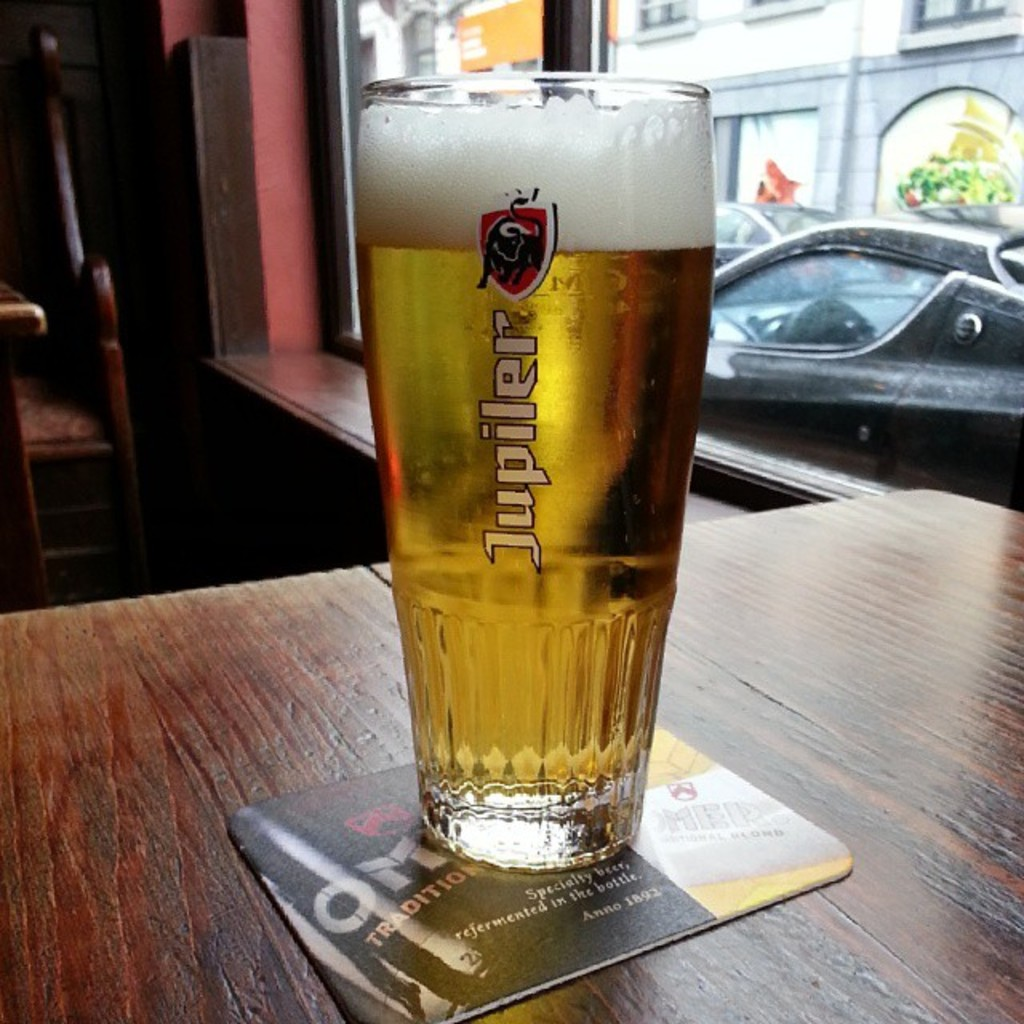Beer: (350, 80, 723, 880)
